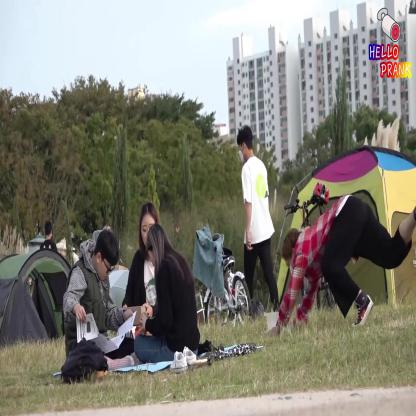Fall_Down: (265, 195, 415, 339)
